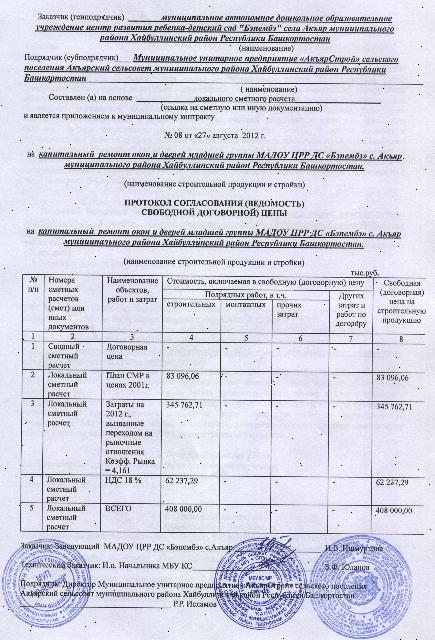stamp: (309, 536, 413, 638), (215, 537, 306, 631), (1, 538, 93, 630)
